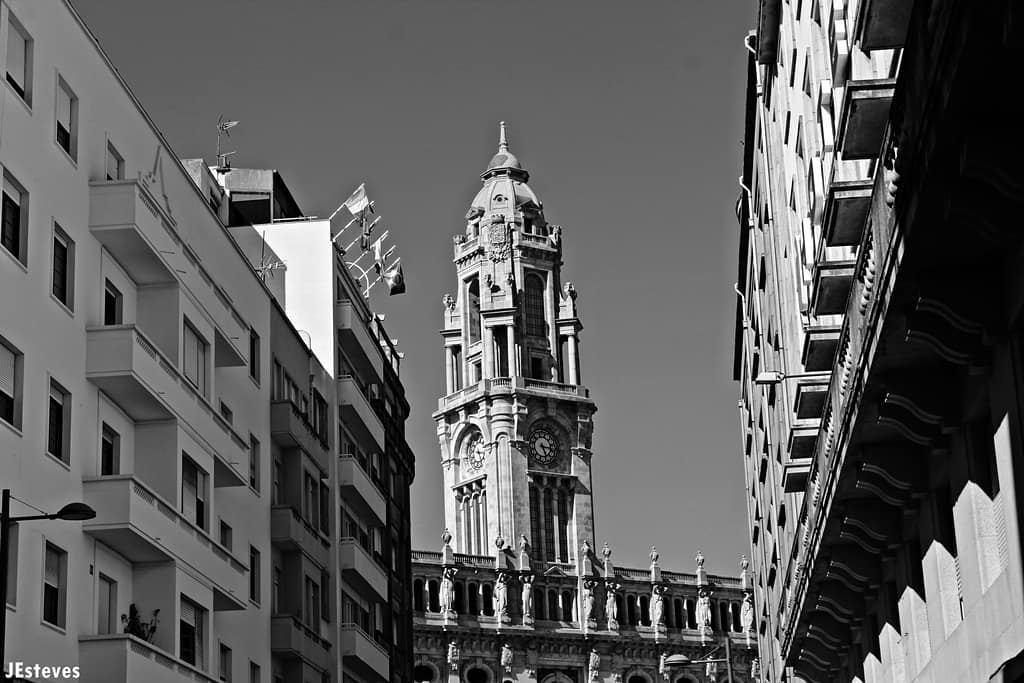camara: (412, 119, 754, 682)
